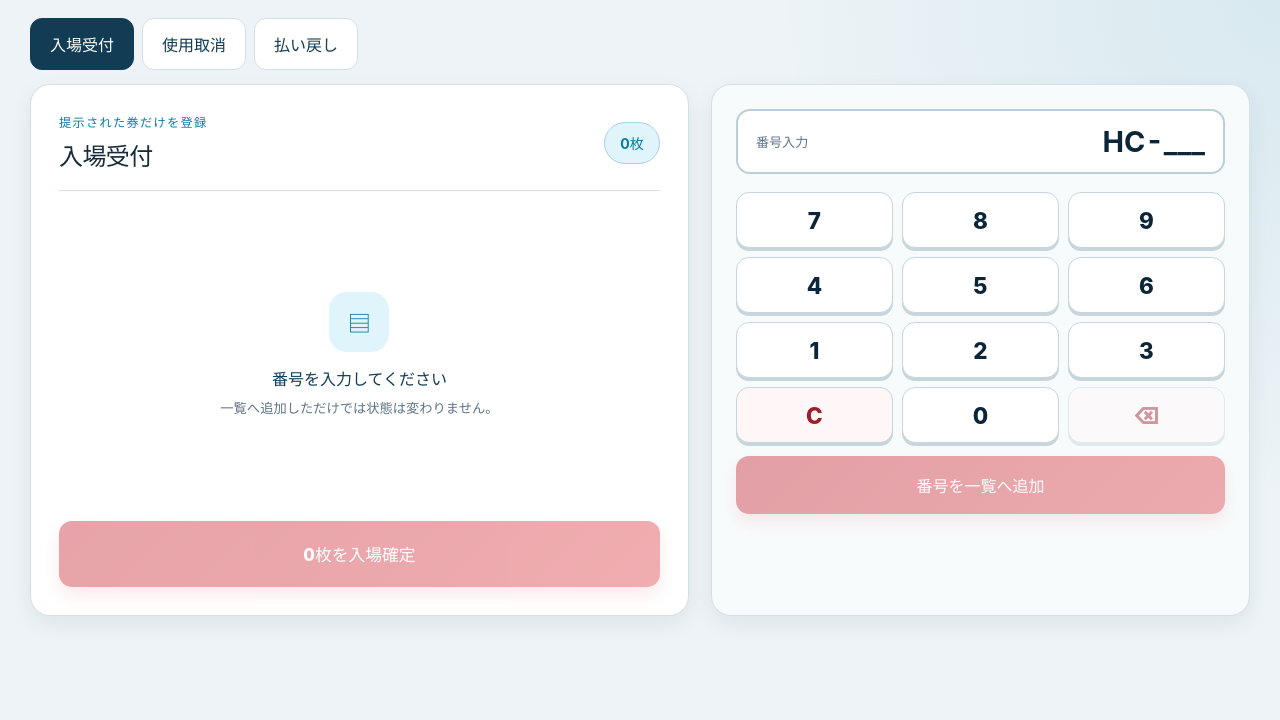
入場画面の一覧 › 1をHC-001として受け付ける
Click the button "1".
click(814, 350)  # box 736,322 -> 893,378
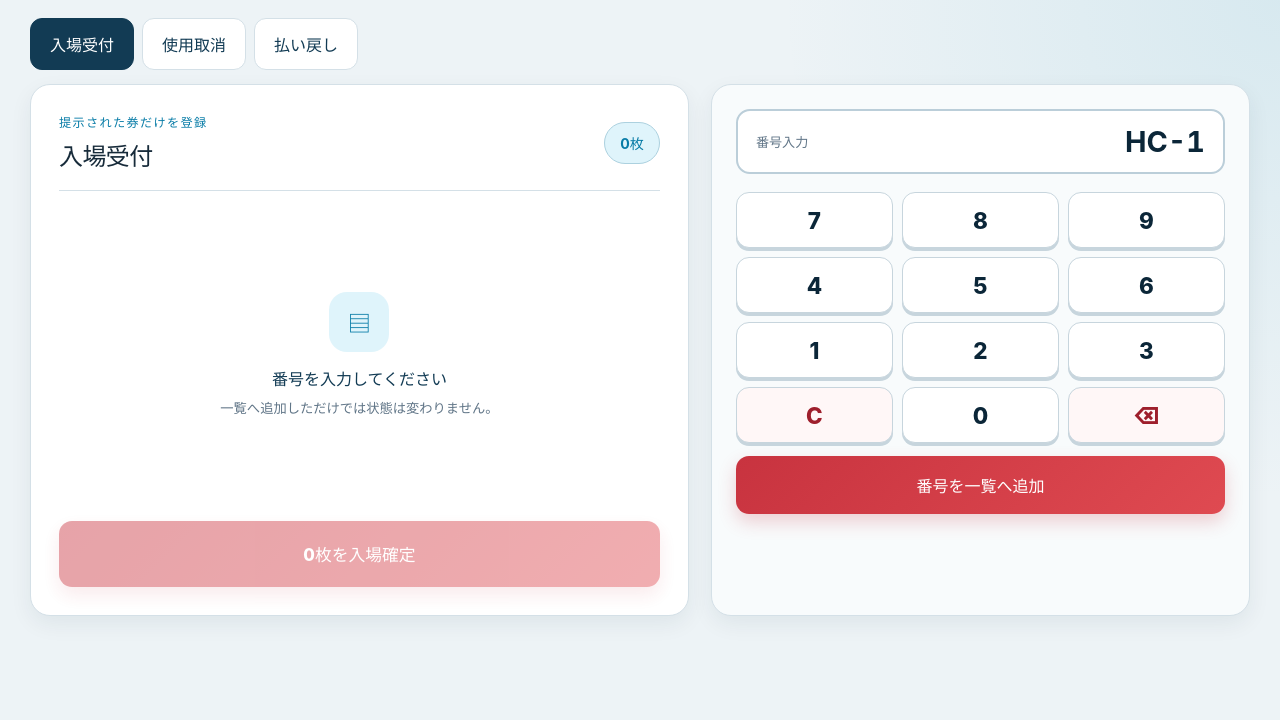
Click the button "番号を一覧へ追加".
click(980, 485)  # box 736,456 -> 1225,514
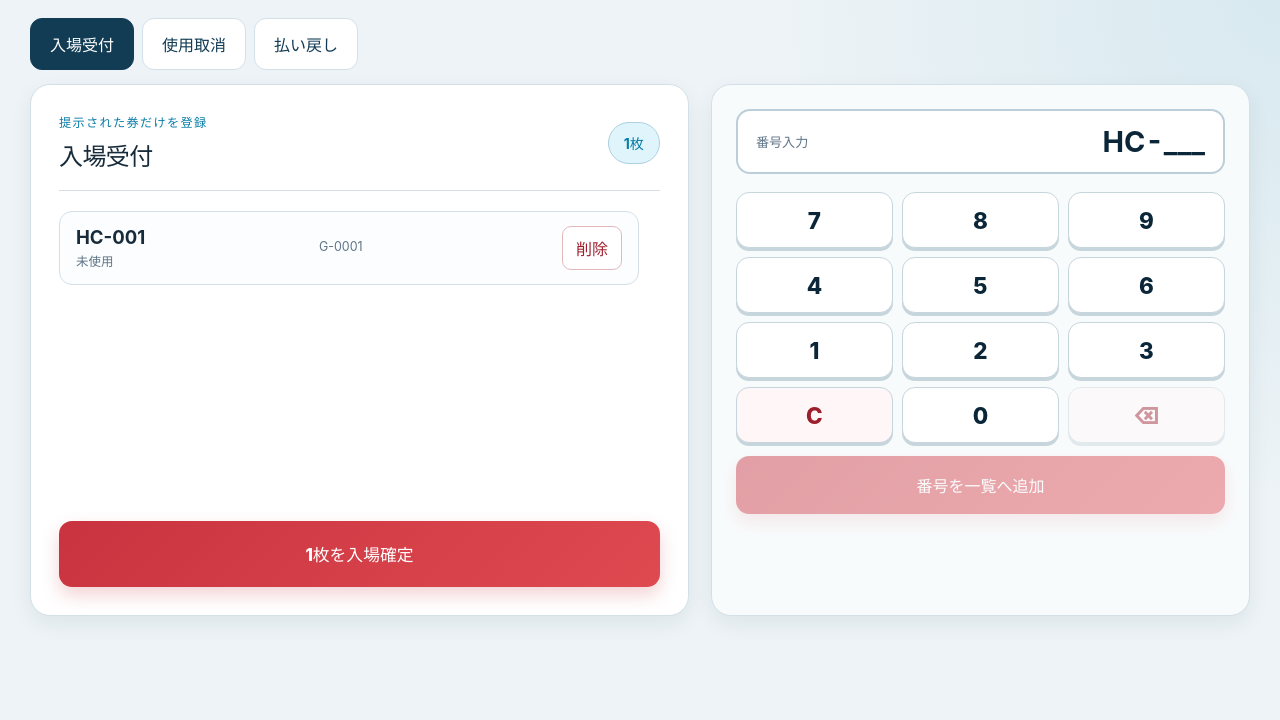
expect the text "HC-001" is shown: met, box 76,226 -> 145,248
